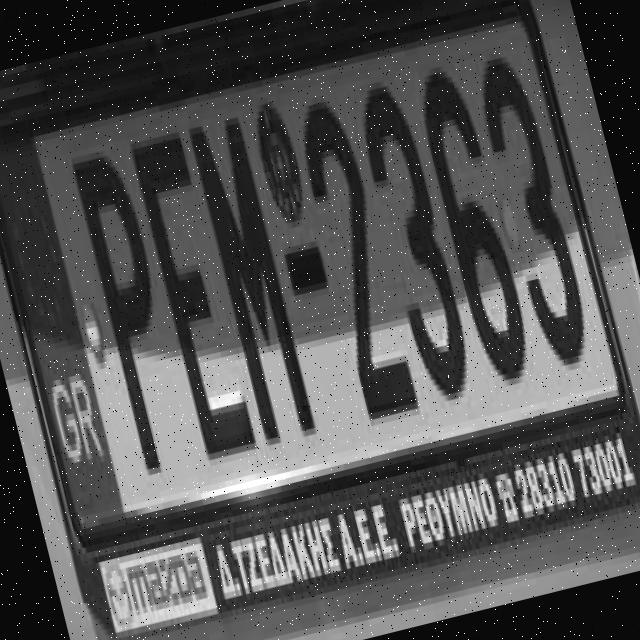EU: (0, 0, 640, 639)
Grece: (0, 132, 124, 525)
